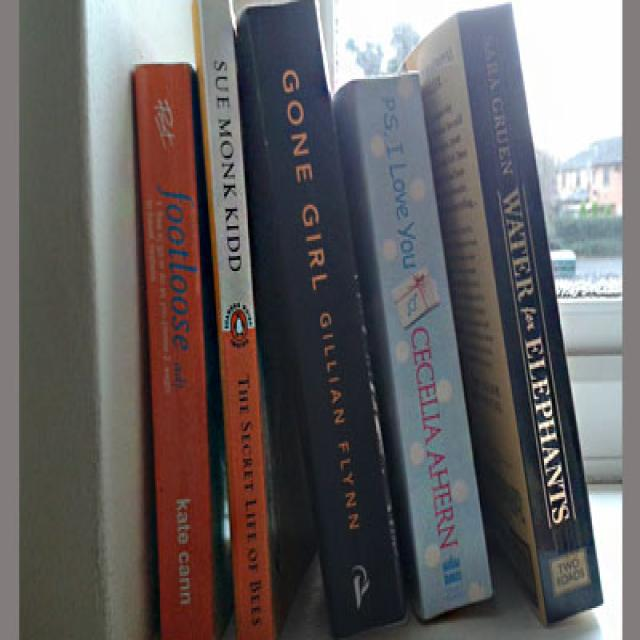Books: (405, 7, 602, 623), (237, 2, 406, 640), (335, 78, 490, 618), (135, 63, 232, 638), (195, 0, 276, 638)
